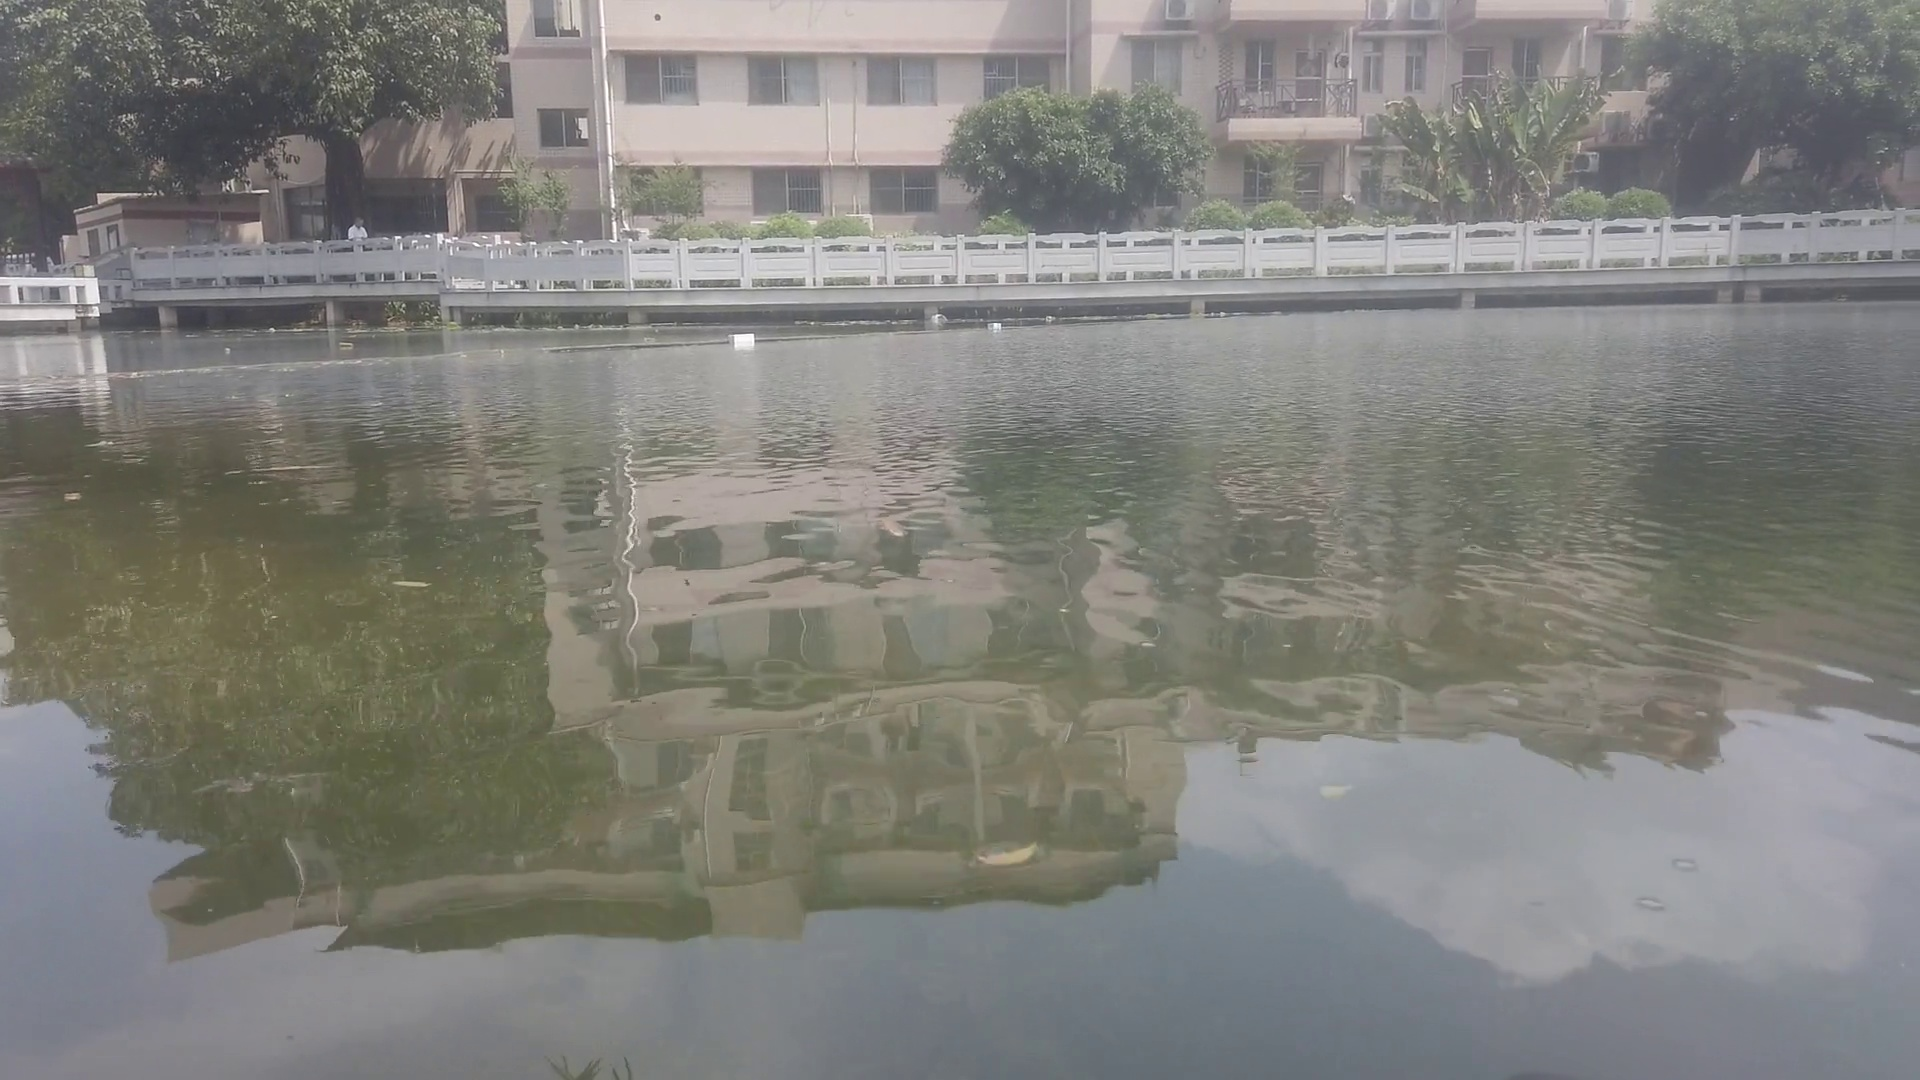carton: (731, 332, 754, 345), (985, 319, 1004, 335)
